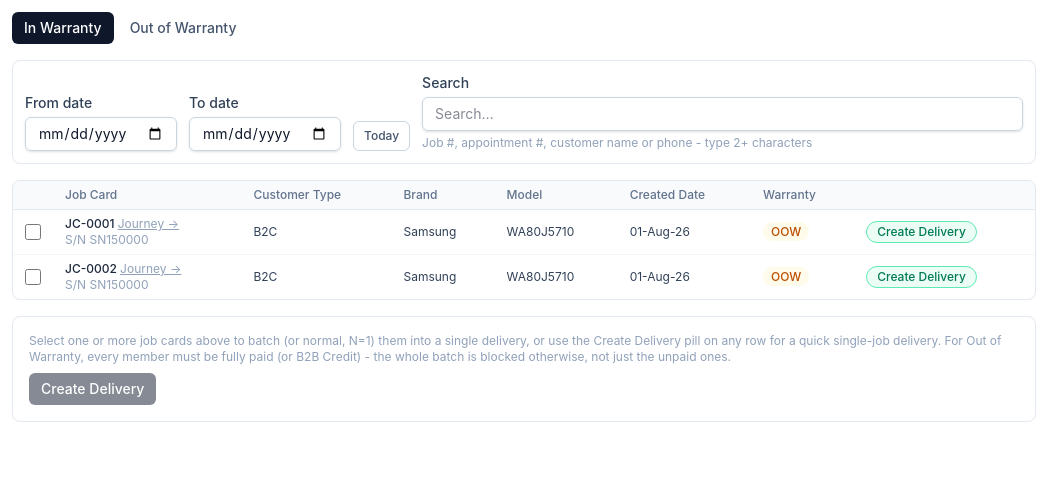
Test case: ReadyForDeliveryPage - Modification Request (2026-09-15): filters, new columns, per-row pill › a row's Create Delivery pill posts just that one job card, independent of any checkbox selection
This screenshot has width=1053, height=485.
Expected: the text "JC-0002 Journey →" is shown, [65,261,181,276]
What coordinates should you click on to do the following:
click the button with aria-label "Create delivery for JC-0002"
I would click on:
 (922, 277)
Its box is [866,266,977,288].
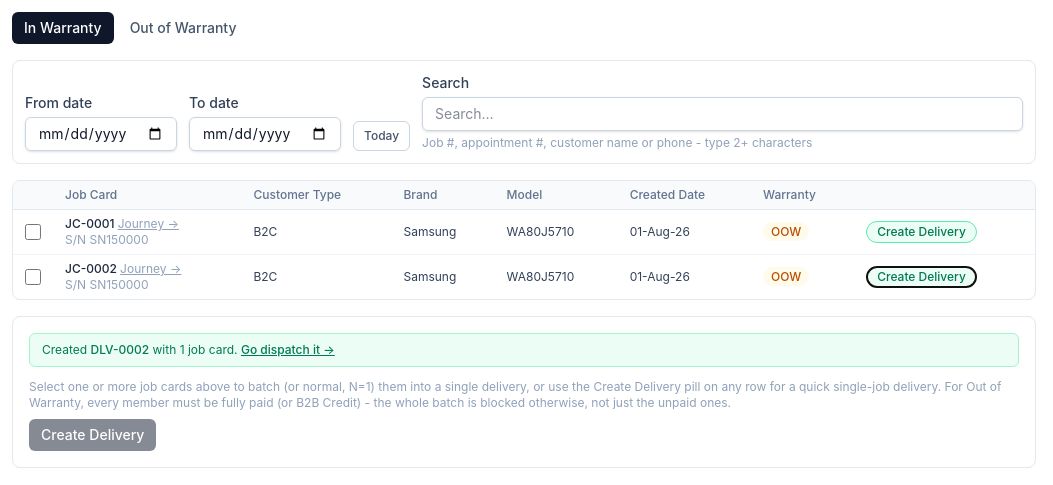
Expected: the button "Create Delivery" below "DLV-0002" is disabled, [29,419,156,451]
Expected: the text "DLV-0002" is shown, [90,342,149,357]
